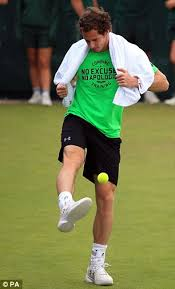tennis_ball: (96, 171, 109, 185)
